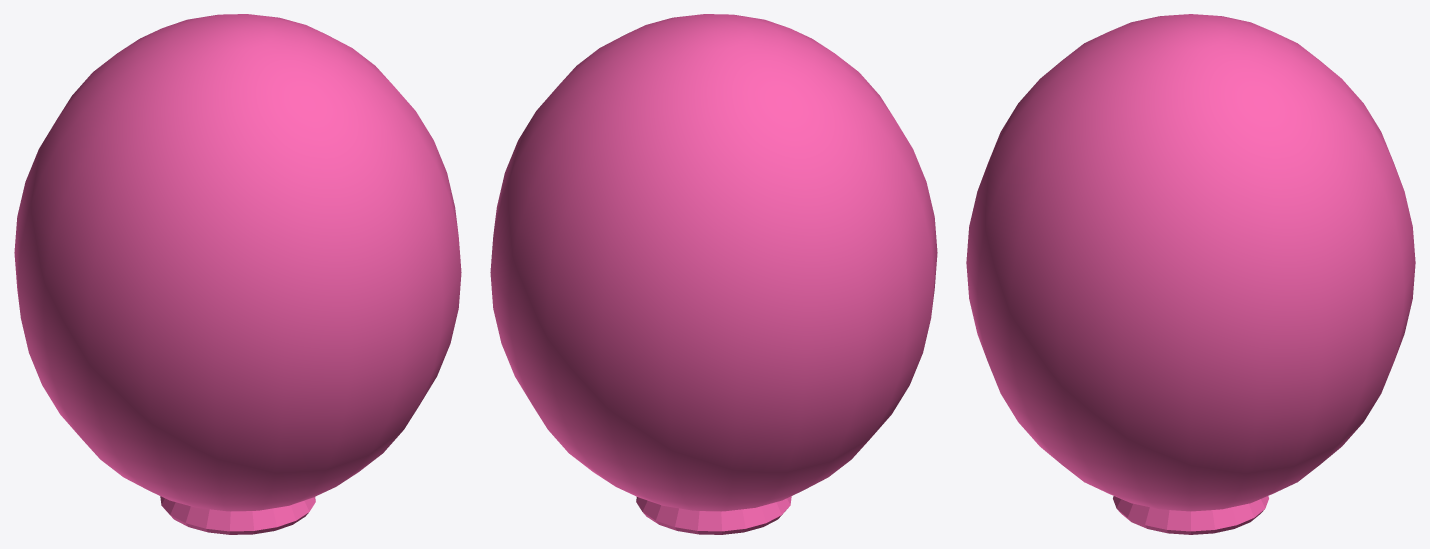
The model's file is pinkBalloon.fbx.
3 views of the same model, side by side, from view 1: azimuth 30°, elevation 25°; view 2: azimuth 150°, elevation 25°; view 3: azimuth 270°, elevation 25° (orthographic).
Parts seen in each view (by area): view 1: pSphere1; view 2: pSphere1; view 3: pSphere1.
Boxes of the visible parts, bbox=[...] form: pSphere1: bbox=[14, 14, 461, 534]; pSphere1: bbox=[490, 14, 937, 534]; pSphere1: bbox=[966, 14, 1415, 534].
Bounding box in the file's own units: 3 × 3.56 × 3.
1 material, 1 textured.
